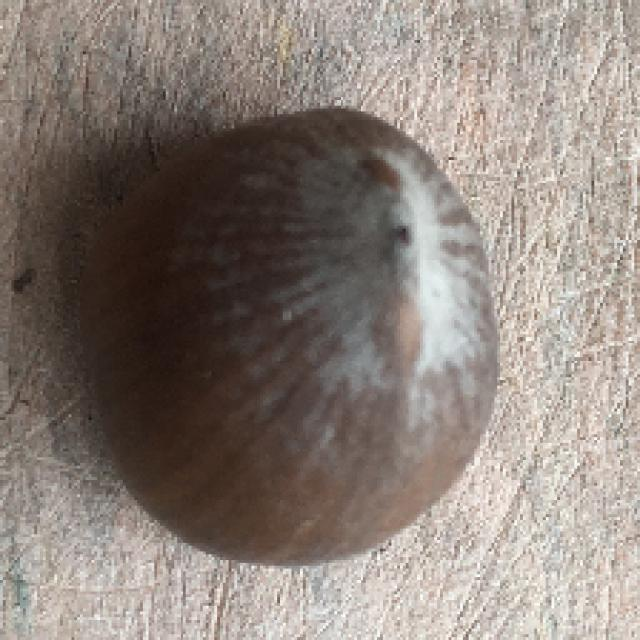damagedHazelnut: (94, 99, 503, 572)
